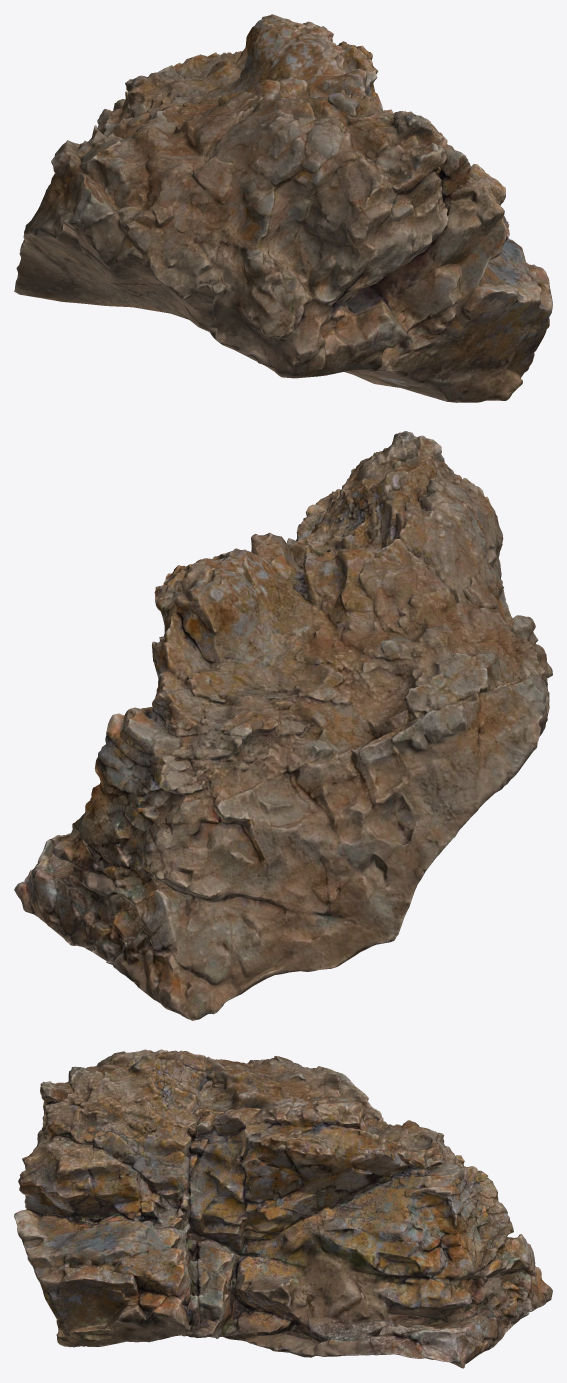
Rendered from boulder_01.glb.
The picture shows the model from 3 angles, top to bottom: view 1: azimuth 30°, elevation 25°; view 2: azimuth 150°, elevation 25°; view 3: azimuth 270°, elevation 25°; orthographic projection. The views are drawn at different scales.
Parts seen in each view (by area): view 1: boulder_01; view 2: boulder_01; view 3: boulder_01.
Boxes of the visible parts, x1,y1,x2,y2 form: boulder_01: (14,14,552,402); boulder_01: (14,431,552,1020); boulder_01: (14,1049,552,1368).
Size of the model in its own units: 1.27 by 1 by 1.83.
Materials: 1 (1 with a texture image).
